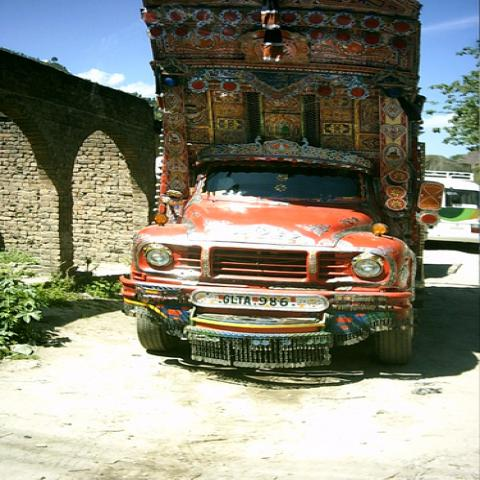truck: (122, 3, 420, 368)
